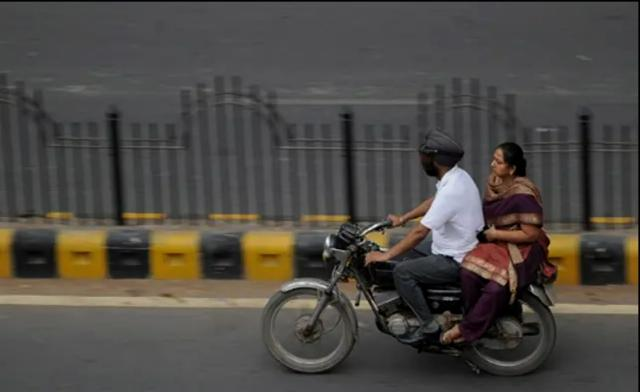motorcycle: (260, 126, 559, 381)
withHelmet: (415, 127, 468, 177)
withoutHelmet: (490, 138, 527, 177)
